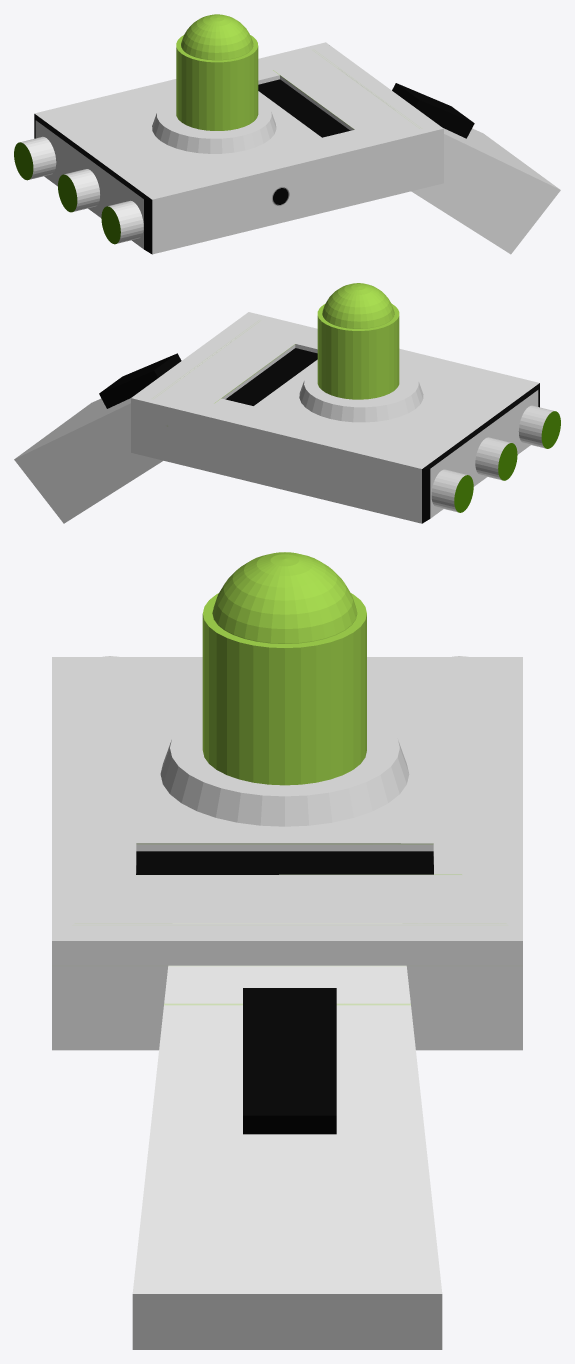
Rendered from 传送枪.fbx.
3 views of the same model, one above another, from view 1: azimuth 30°, elevation 25°; view 2: azimuth 150°, elevation 25°; view 3: azimuth 270°, elevation 25° (orthographic). The views are drawn at different scales.
Visible parts, largest first — view 1: 立方体.003; view 2: 立方体.003; view 3: 立方体.003.
Part boxes in pixels (bbox=[...]): 立方体.003: bbox=[14, 14, 560, 254]; 立方体.003: bbox=[14, 283, 560, 523]; 立方体.003: bbox=[52, 552, 522, 1349].
Size of the model in its own units: 705 by 402 by 316.
1 material, 1 textured.
